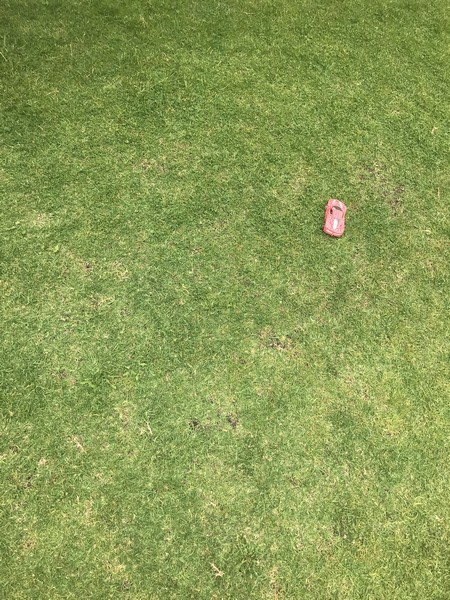RC: (320, 193, 348, 242)
